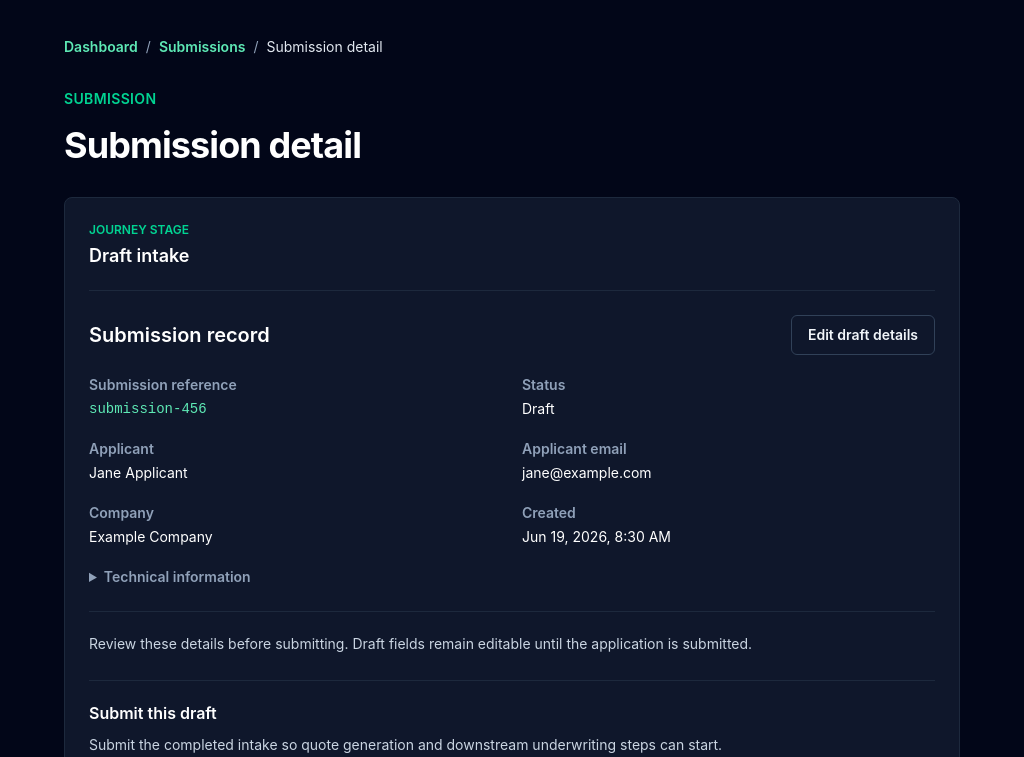
Test: SubmissionDetailPage › lets a customer edit draft details before submitting
The image size is (1024, 757).
Click the button "Edit draft details" at point(863, 335), box [791, 315, 935, 355]
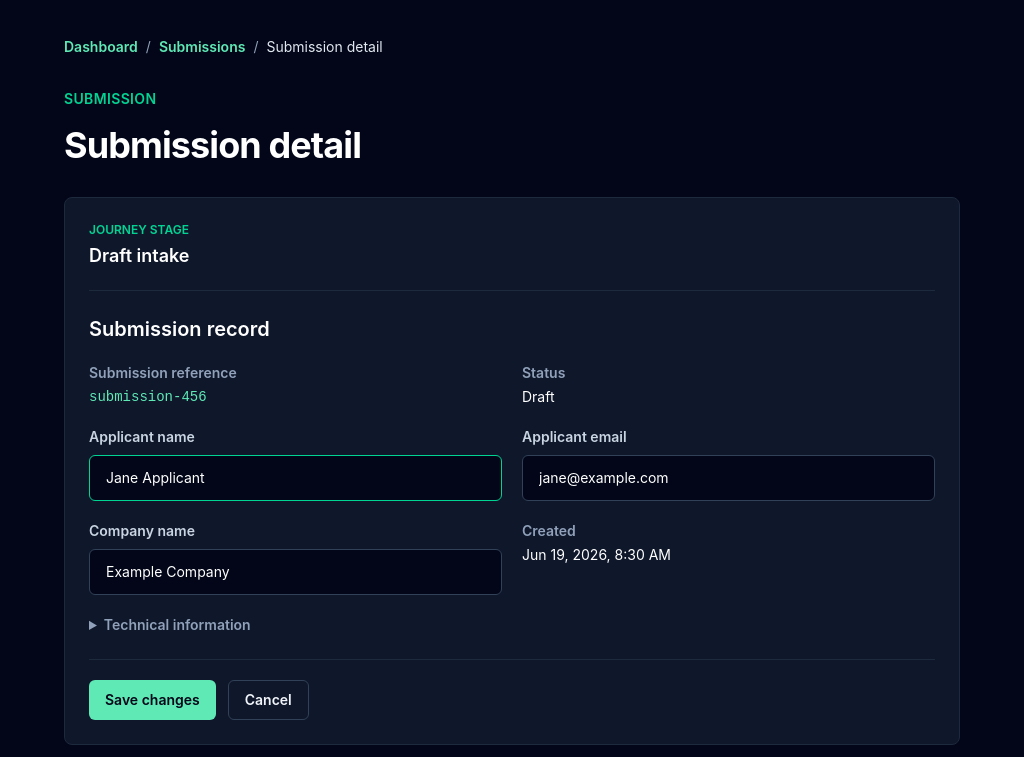
Replace the text in the field labelled "Applicant name" with "Updated Applicant" at point(296, 478), box [89, 455, 502, 501]
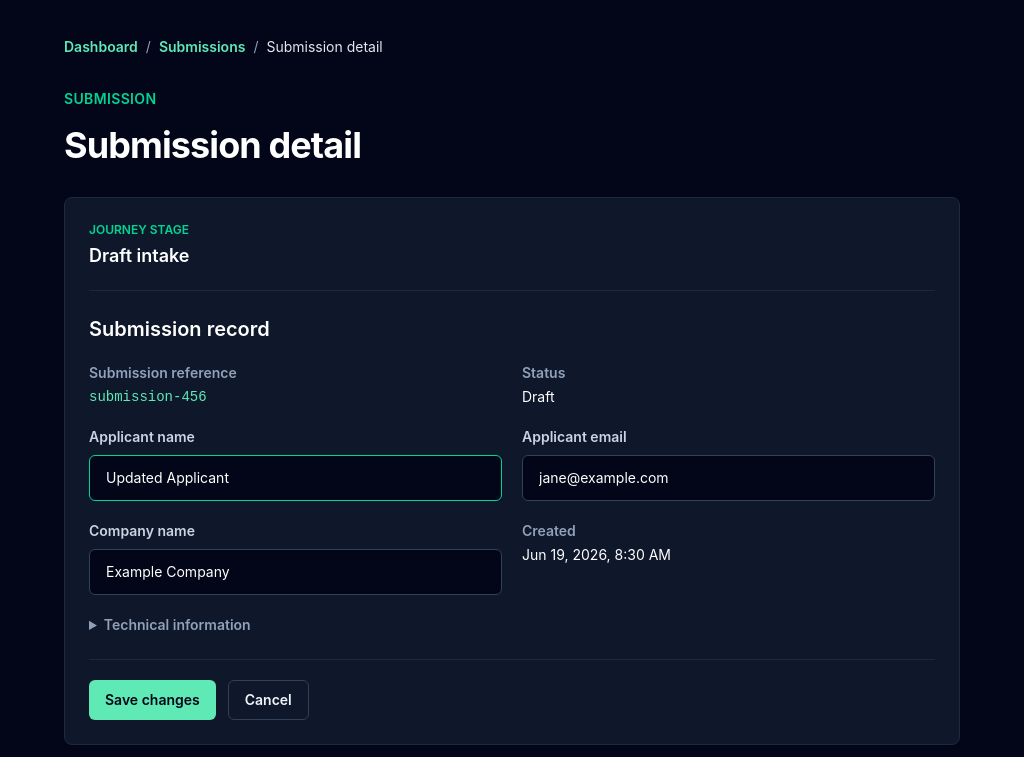
Replace the text in the field labelled "Applicant email" with "updated@example.com" at point(728, 478), box [522, 455, 935, 501]
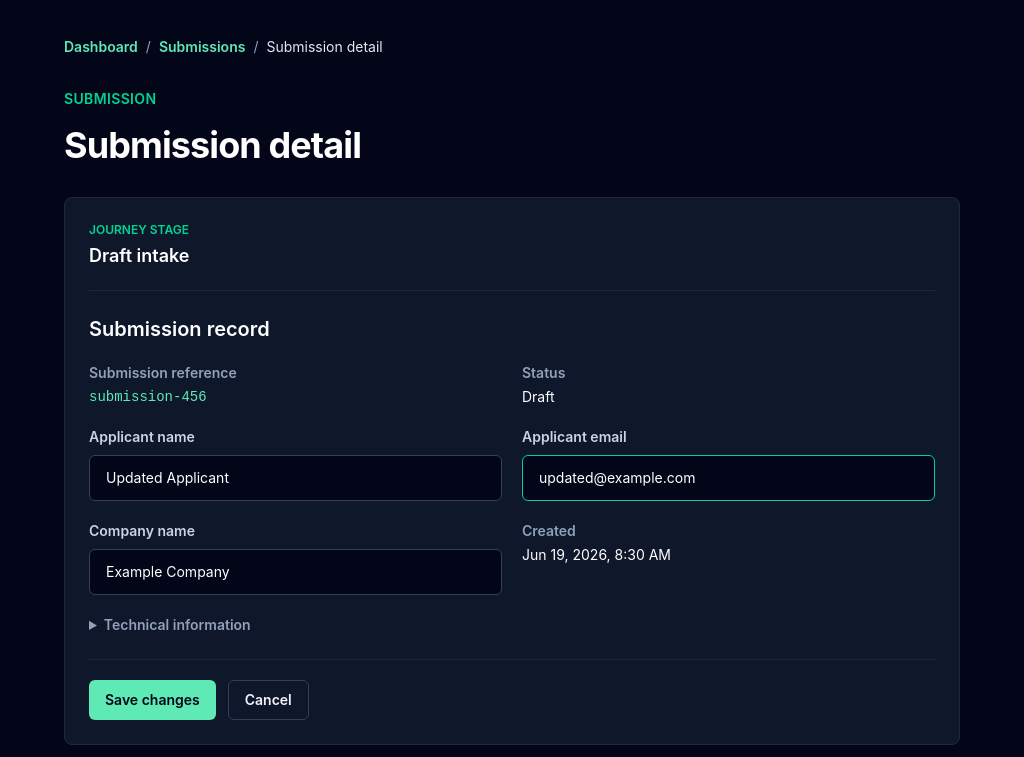
Replace the text in the field labelled "Company name" with "Updated Company" at point(296, 572), box [89, 549, 502, 595]
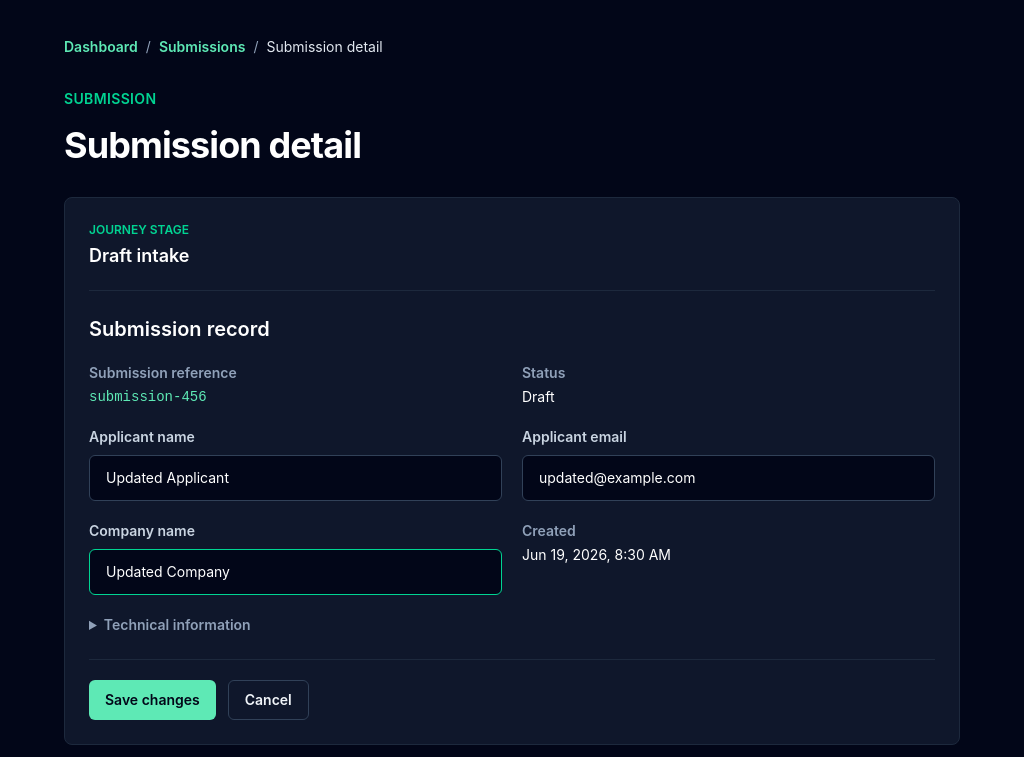
Click the button "Save changes" at point(152, 700), box [89, 680, 216, 720]
(page scrolled)
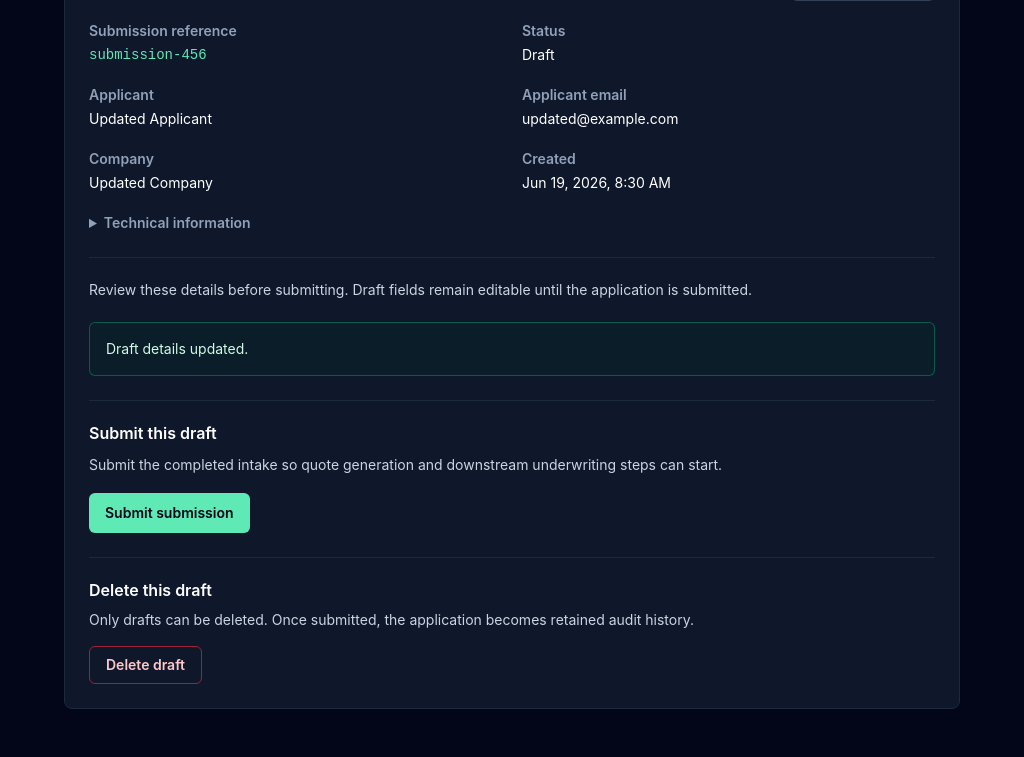
Expected: the text "Draft details updated." is shown, [89, 322, 935, 376]
Expected: the text "Updated Applicant" is shown, [89, 110, 212, 127]
Expected: the text "updated@example.com" is shown, [522, 110, 678, 127]
